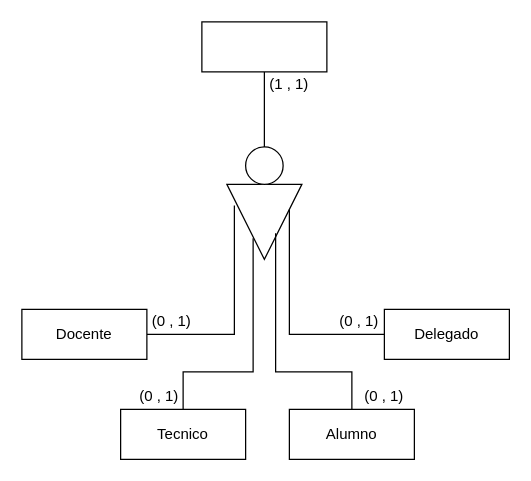
Some shapes in this 531 by 481 pixel diagram are drawn without their labels. Each missing label, with the centre of its shape:
"Es" belongs at pixel 264 221.
"Persona" belongs at pixel 264 46.
